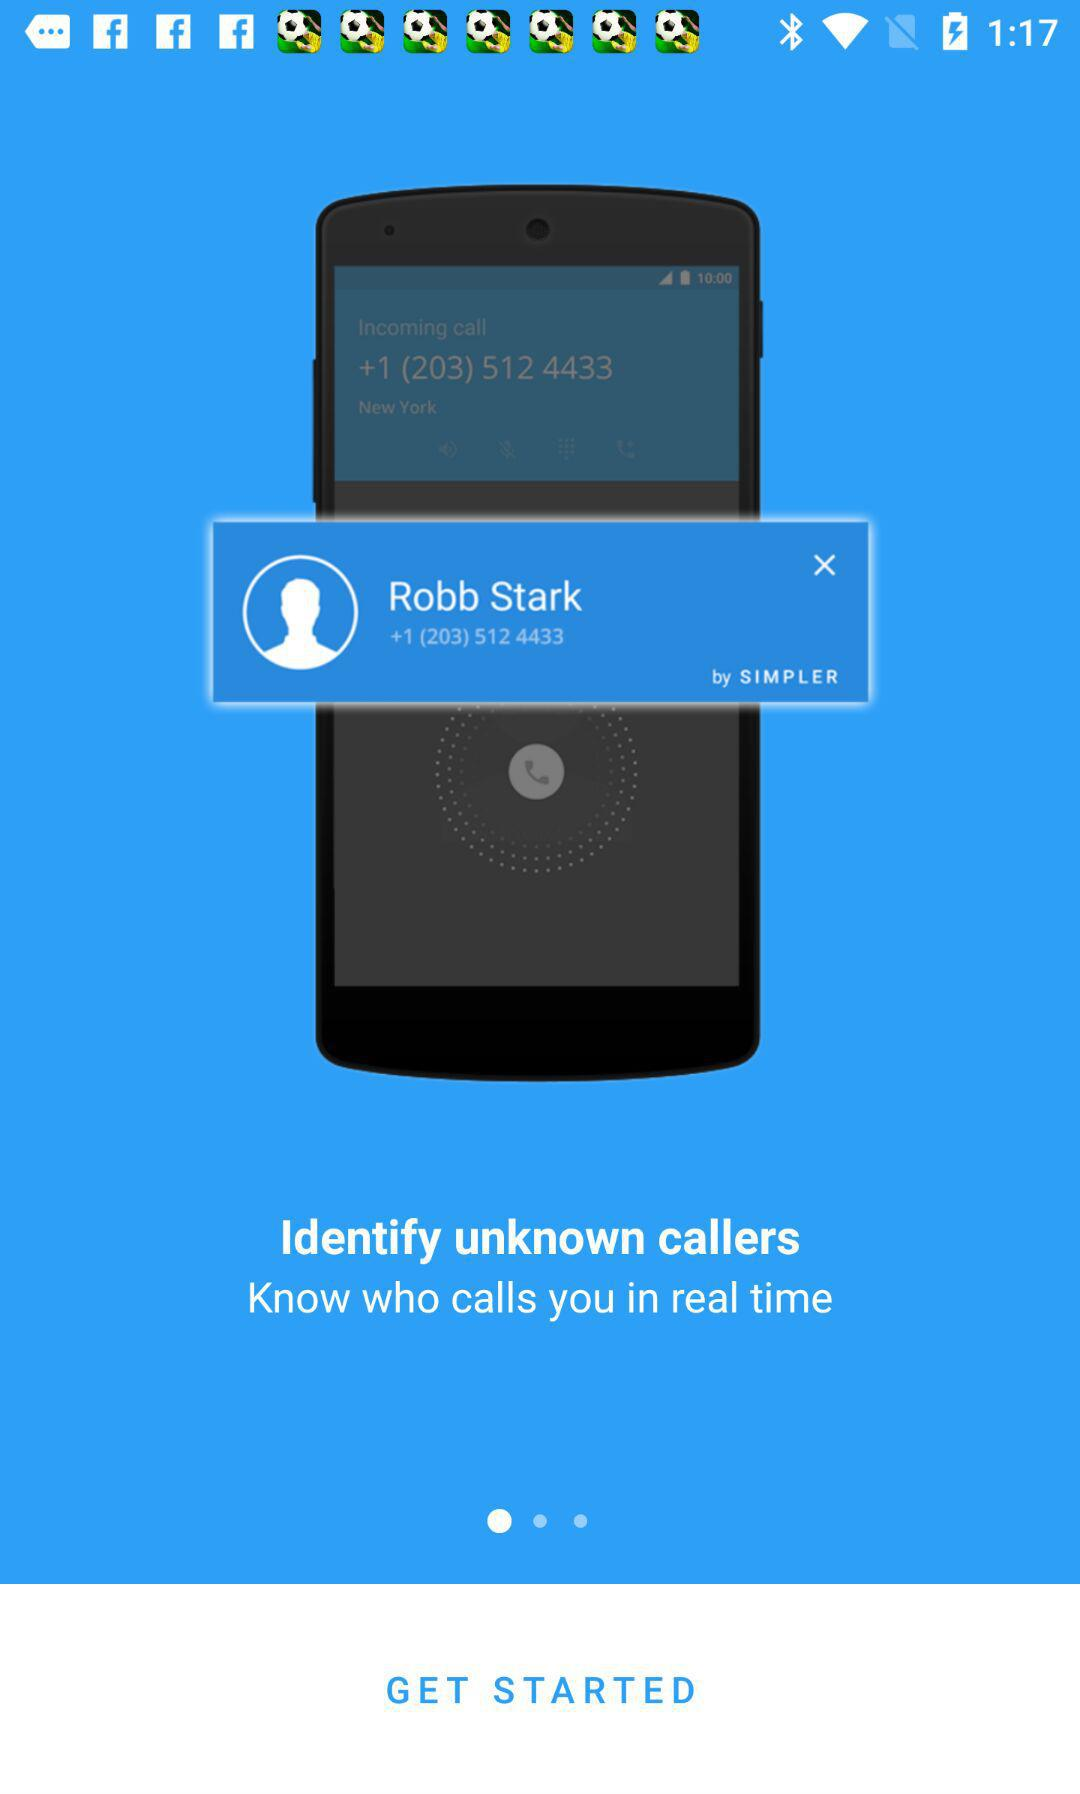Image: (208, 183, 874, 1085)
PageIndicator: (486, 1507, 591, 1535)
Text: (249, 1217, 833, 1322)
TextButton: (1, 1584, 1080, 1794)
UpperTaskBar: (1, 1, 1080, 56)
